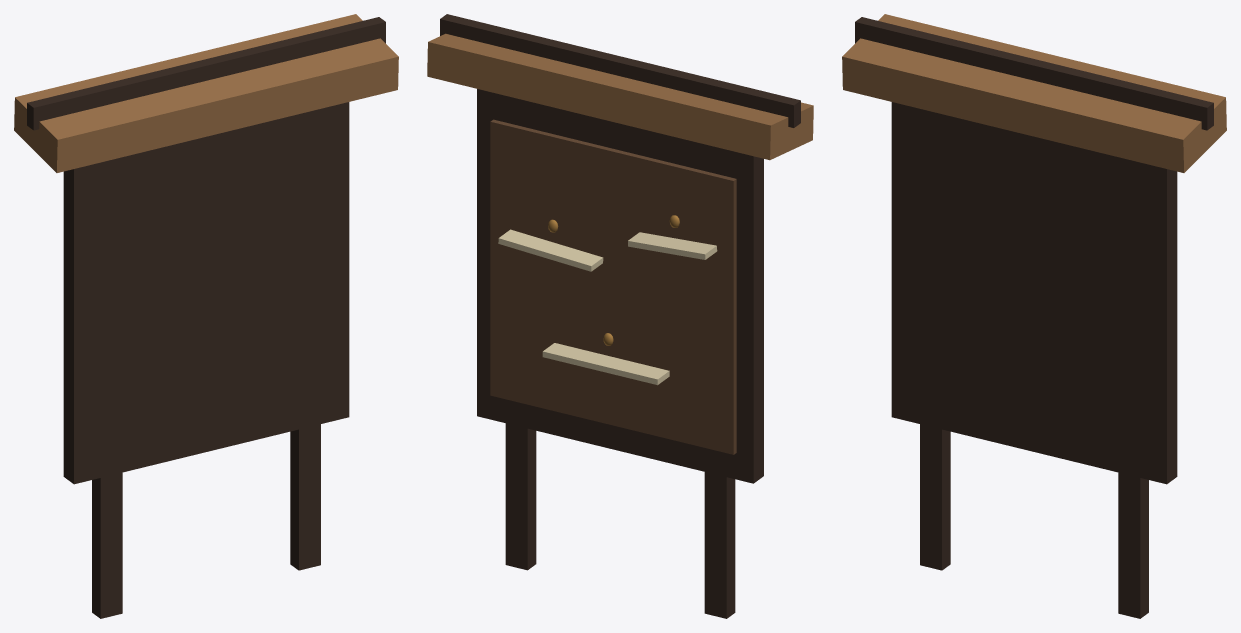
The model's file is notice_board.glb.
3 views of the same model, side by side, from view 1: azimuth 30°, elevation 25°; view 2: azimuth 150°, elevation 25°; view 3: azimuth 330°, elevation 25° (orthographic).
Parts seen in each view (by area): view 1: notice_board; view 2: notice_board; view 3: notice_board.
Boxes of the visible parts, left/top/right/bottom form: notice_board: left=14, top=14, right=398, bottom=618; notice_board: left=427, top=14, right=813, bottom=618; notice_board: left=842, top=14, right=1226, bottom=618.
Size of the model in its own units: 1.4 by 2 by 0.3.
Materials: 1 (1 with a texture image).
